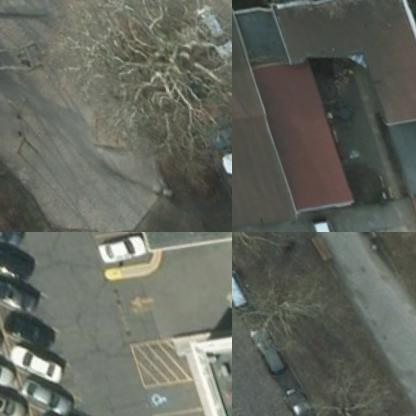car: (0, 291, 68, 352), (13, 356, 83, 415), (2, 323, 71, 382), (0, 258, 52, 318), (242, 315, 284, 373), (0, 232, 46, 284), (273, 374, 323, 415), (92, 232, 154, 263), (0, 366, 31, 415), (201, 0, 231, 49), (198, 102, 231, 144), (302, 202, 347, 231), (0, 330, 21, 391), (0, 303, 18, 364), (232, 244, 248, 310), (33, 402, 103, 415), (211, 128, 231, 170)
